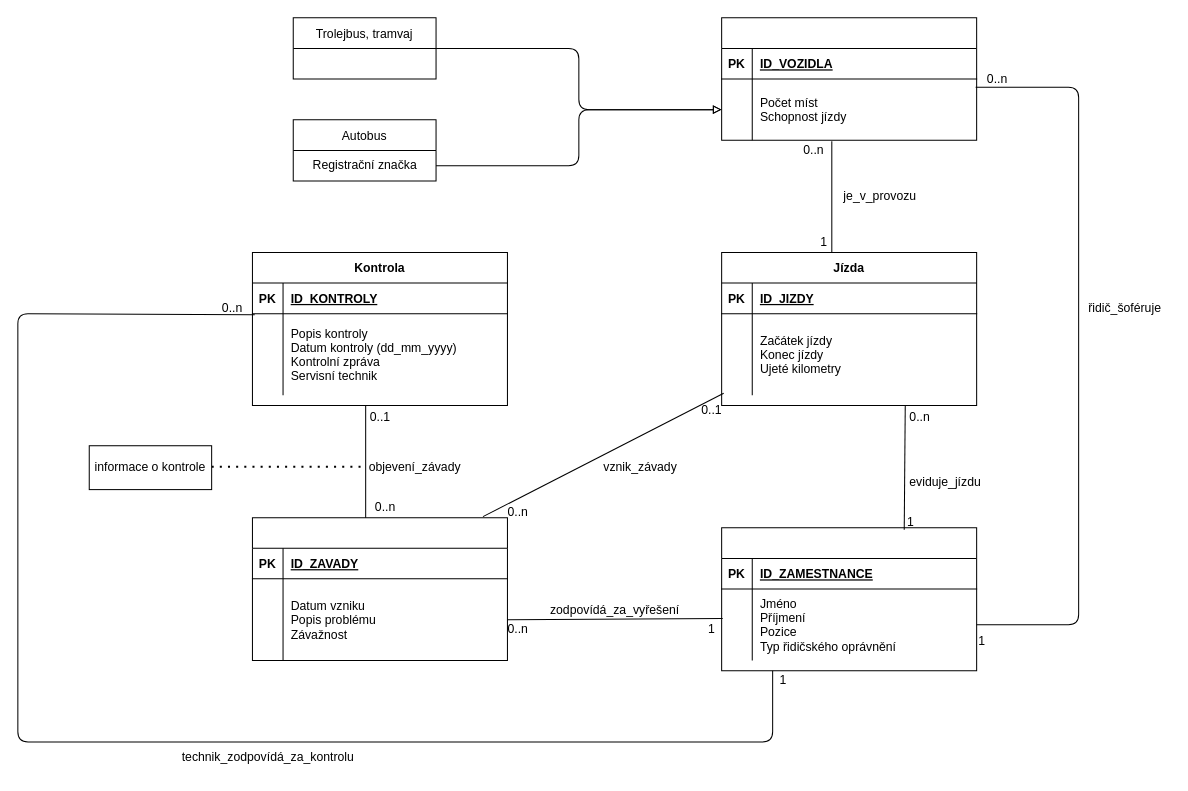
This 1188x791 diagram has some shape labels left out. The box of each missing label's shape, as (x1, y1, x2, y2) in pixels:
Vůz: (721, 17, 977, 140)
Zaměstnanec: (721, 527, 977, 671)
Závada: (251, 517, 507, 660)
